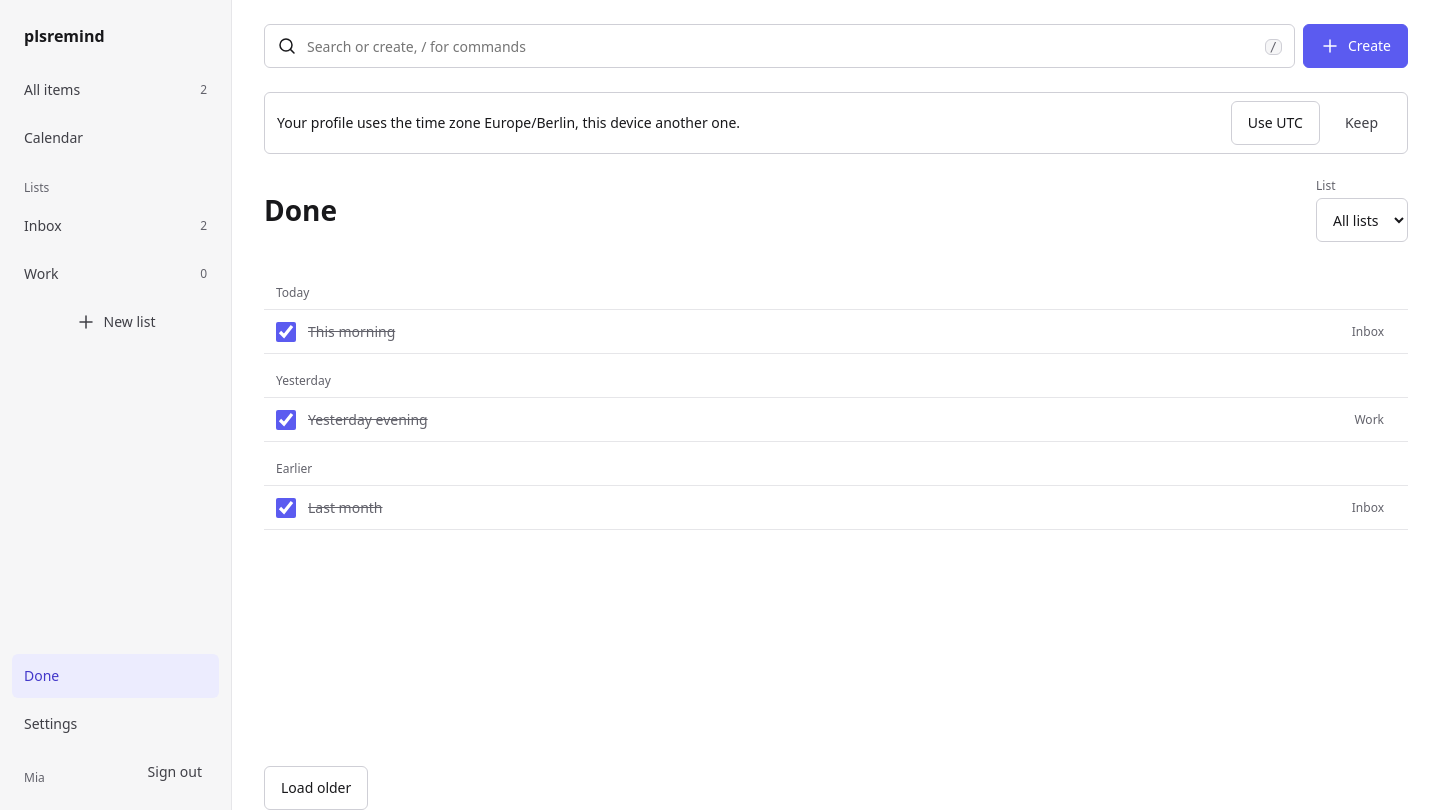
Test: older items are loaded page by page from where the cache ends
Click the button "Load older": (316, 788) [264,766,368,809]
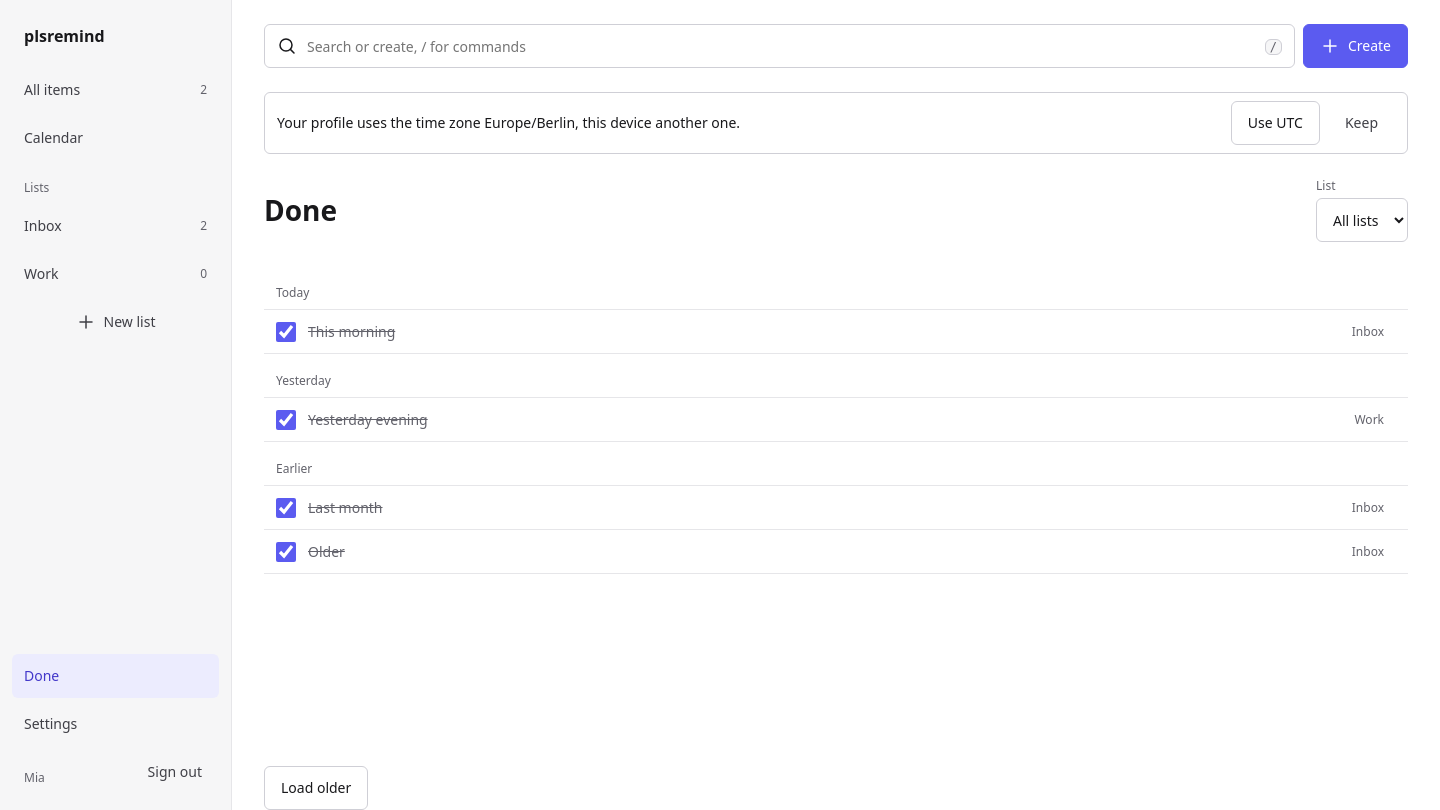
Click the button "Load older": (316, 788) [264,766,368,809]
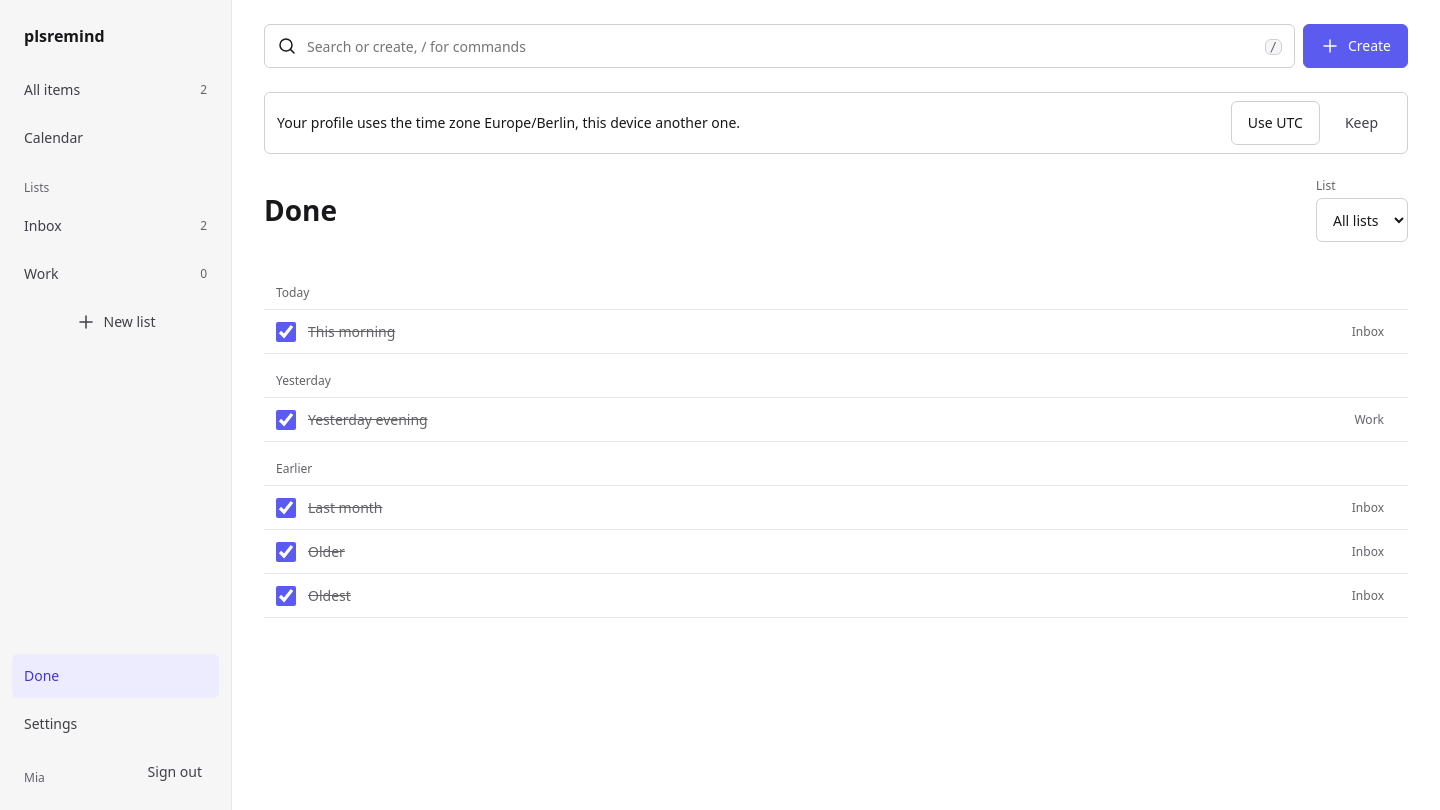
Now the button "Load older" is gone
